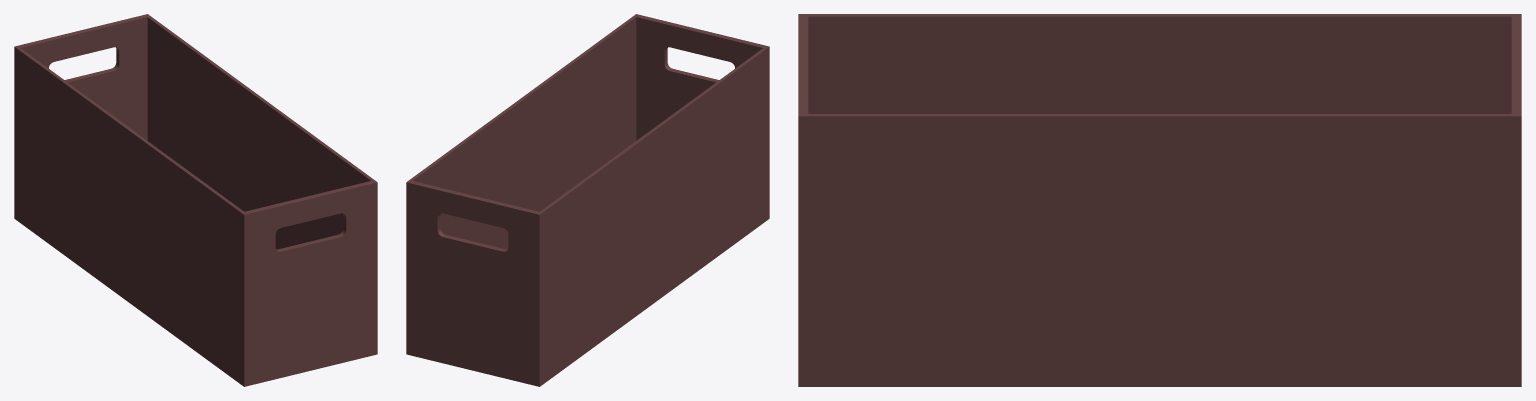
The picture shows the model from 3 angles, left to right: view 1: azimuth 30°, elevation 25°; view 2: azimuth 150°, elevation 25°; view 3: azimuth 270°, elevation 25°; orthographic projection. The views are drawn at different scales.
Visible parts, largest first — view 1: polySurface91; view 2: polySurface91; view 3: polySurface91.
Boxes of the visible parts, bbox=[...] form: polySurface91: bbox=[14, 14, 377, 386]; polySurface91: bbox=[406, 14, 769, 386]; polySurface91: bbox=[798, 14, 1521, 386].
Bounding box in the file's own units: 25.92 × 31.93 × 77.35.
